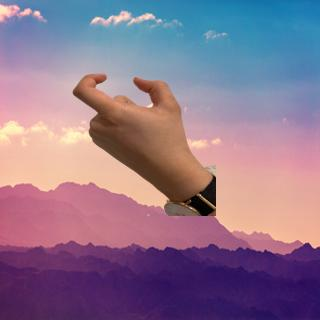HATE: (69, 68, 198, 183)
